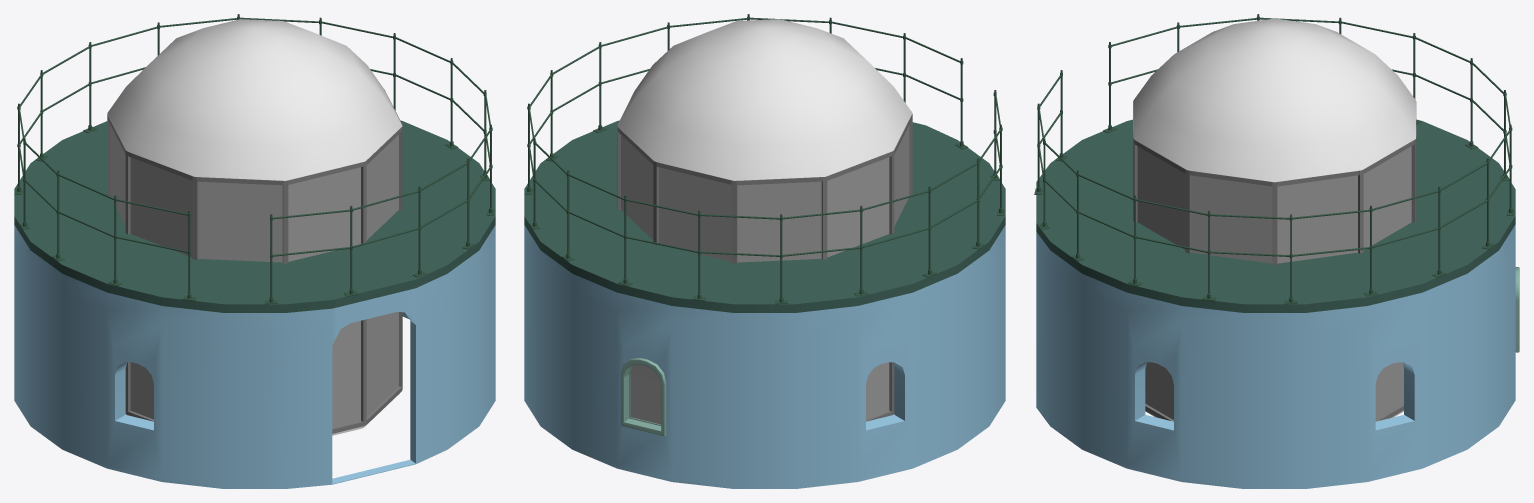
File: B and C.fbx
3 renders of one model, left to right at view 1: azimuth 30°, elevation 25°; view 2: azimuth 150°, elevation 25°; view 3: azimuth 270°, elevation 25°, orthographic.
Parts seen in each view (by area): view 1: B_Wall, B_C_Roof, Roof, Glass, Glass_Frame_4, Glass_Frame_1, Glass_Frame_3, Glass_Frame_2, Rail_C, Rail_C16, Rail_C1, Glass_Frame_5 (+5 smaller); view 2: B_Wall, B_C_Roof, Roof, Glass, Window_Glass, Window_Frame, Glass_Frame_9, Glass_Frame_10, Glass_Frame_1, Glass_Frame_8, Rail_C11, Rail_C12 (+7 smaller); view 3: B_Wall, B_C_Roof, Roof, Glass, Glass_Frame_5, Glass_Frame_7, Glass_Frame_6, Glass_Frame_4, Rail_C5, Rail_C6, Rail_C4, Rail_C12 (+4 smaller).
Boxes of the visible parts, left/top/right/bottom form: B_Wall: left=14, top=225, right=495, bottom=488; B_C_Roof: left=14, top=120, right=495, bottom=312; Roof: left=107, top=19, right=402, bottom=180; Glass: left=110, top=126, right=398, bottom=427; Glass_Frame_4: left=361, top=127, right=401, bottom=425; Glass_Frame_1: left=125, top=150, right=192, bottom=421; Glass_Frame_3: left=282, top=162, right=363, bottom=433; Glass_Frame_2: left=192, top=176, right=283, bottom=259; Rail_C: left=264, top=209, right=350, bottom=304; Rail_C16: left=108, top=195, right=187, bottom=286; Rail_C1: left=344, top=190, right=419, bottom=296; Glass_Frame_5: left=384, top=89, right=402, bottom=390; B_Wall: left=524, top=225, right=1005, bottom=488; B_C_Roof: left=524, top=120, right=1005, bottom=312; Roof: left=617, top=19, right=912, bottom=180; Glass: left=621, top=125, right=909, bottom=419; Window_Glass: left=630, top=364, right=661, bottom=424; Window_Frame: left=621, top=358, right=666, bottom=436; Glass_Frame_9: left=731, top=177, right=822, bottom=263; Glass_Frame_10: left=821, top=151, right=891, bottom=421; Glass_Frame_1: left=889, top=114, right=912, bottom=415; Glass_Frame_8: left=653, top=160, right=731, bottom=244; Rail_C11: left=692, top=210, right=779, bottom=301; Rail_C12: left=774, top=209, right=860, bottom=304; B_Wall: left=1036, top=225, right=1515, bottom=488; B_C_Roof: left=1036, top=119, right=1515, bottom=312; Roof: left=1133, top=18, right=1415, bottom=182; Glass: left=1137, top=146, right=1411, bottom=419; Glass_Frame_5: left=1185, top=169, right=1272, bottom=253; Glass_Frame_7: left=1358, top=140, right=1414, bottom=421; Glass_Frame_6: left=1272, top=170, right=1359, bottom=264; Glass_Frame_4: left=1133, top=138, right=1185, bottom=421; Rail_C5: left=1202, top=210, right=1289, bottom=301; Rail_C6: left=1284, top=209, right=1370, bottom=304; Rail_C4: left=1128, top=195, right=1207, bottom=286; Rail_C12: left=1415, top=37, right=1478, bottom=149.
Bounding box in the file's own units: 4.96 × 4.07 × 4.99.
